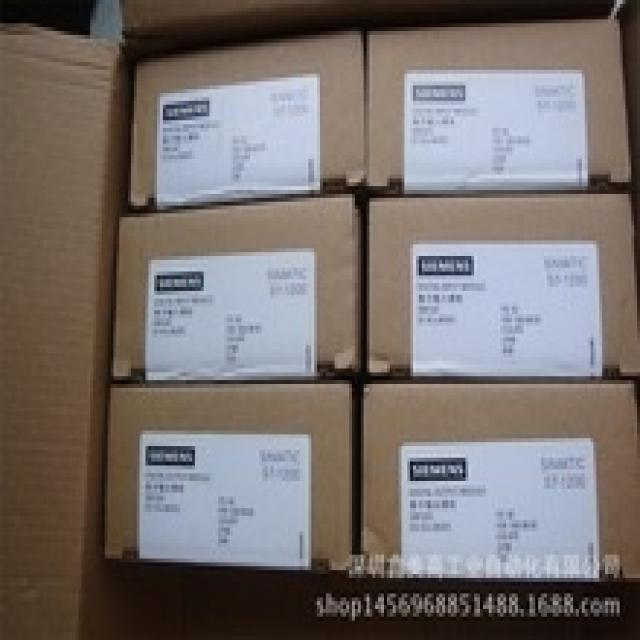box: (362, 382, 637, 578), (369, 192, 637, 376), (104, 383, 356, 571), (113, 193, 360, 383), (366, 20, 629, 191), (132, 34, 367, 212)
